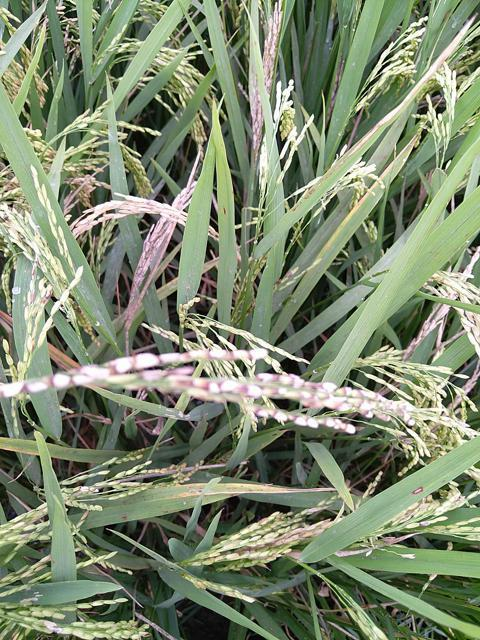Leaf Streak: (411, 486, 424, 495)
Panicle Blight: (263, 373, 417, 426), (252, 405, 355, 432), (165, 376, 262, 398), (47, 364, 119, 386), (273, 529, 314, 547), (43, 621, 67, 637), (0, 383, 29, 396), (31, 503, 48, 520), (3, 212, 15, 230), (35, 554, 55, 564), (265, 387, 279, 400), (224, 352, 245, 360), (27, 337, 35, 353), (360, 408, 372, 417), (27, 289, 36, 301), (418, 520, 432, 527), (32, 263, 37, 279), (40, 296, 49, 304), (155, 355, 163, 363), (184, 353, 193, 359), (207, 353, 214, 360), (132, 356, 136, 365)
